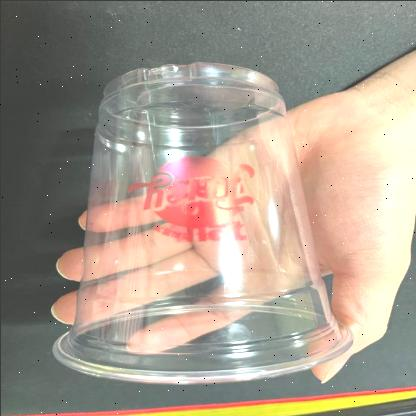Others: (46, 60, 356, 386)
